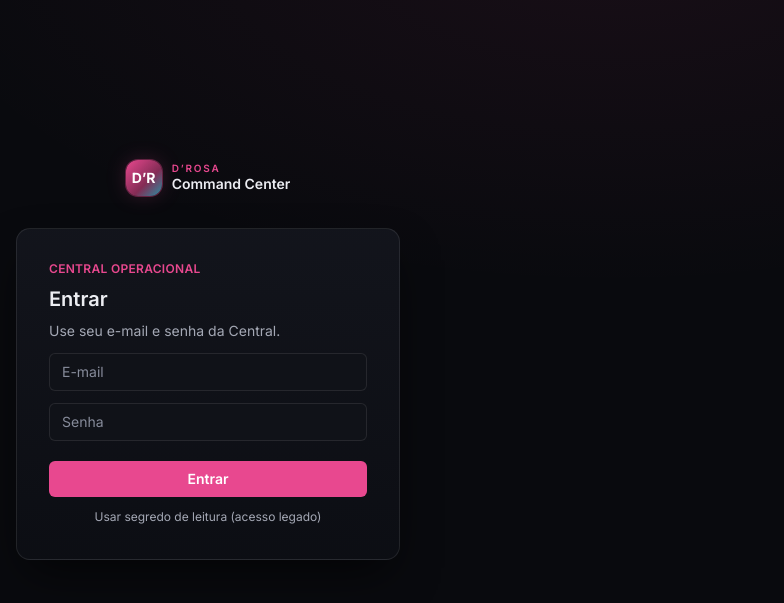
it: ConnectGate — sessão única + legado › login com 429 mostra mensagem de bloqueio
This screenshot has width=784, height=603.
In the field labelled "E-mail": (208, 372) x1=49 y1=353 x2=367 y2=391, type "a@b.c"
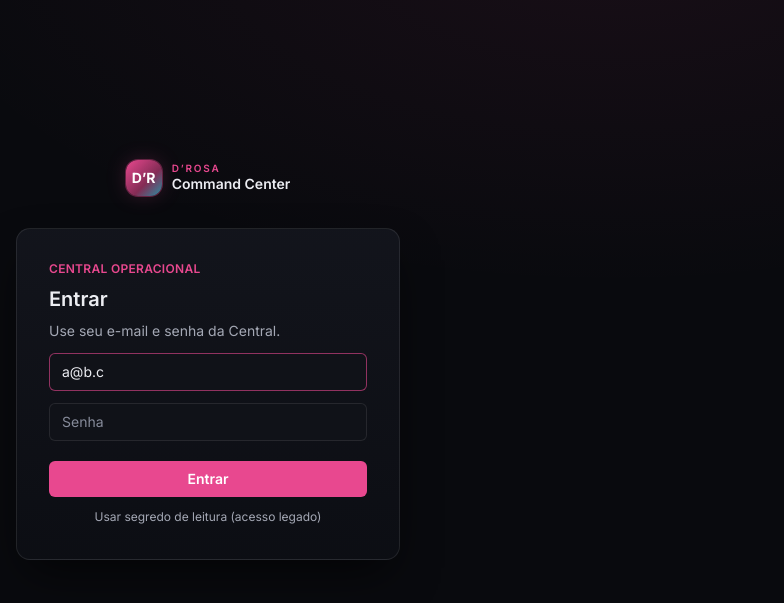
In the password field labelled "Senha": (208, 422) x1=49 y1=403 x2=367 y2=441, type "x"
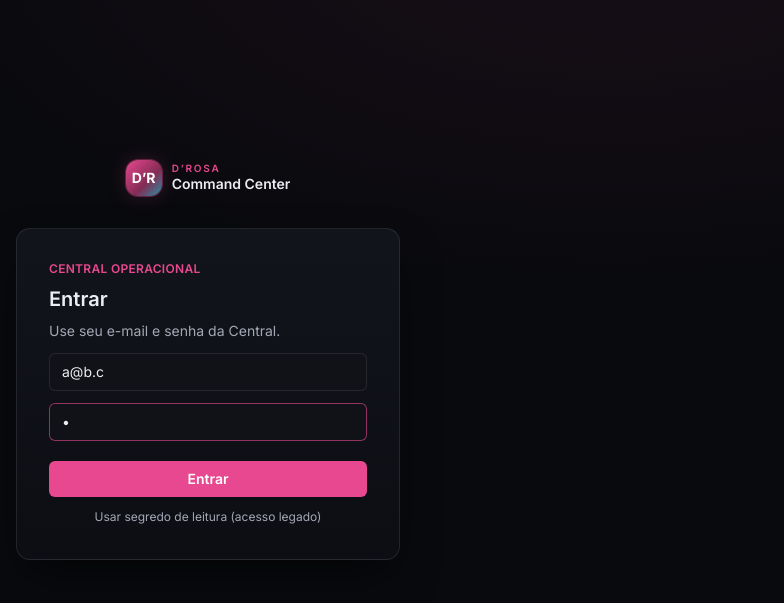
Click the button "Entrar": (208, 479) x1=49 y1=461 x2=367 y2=497
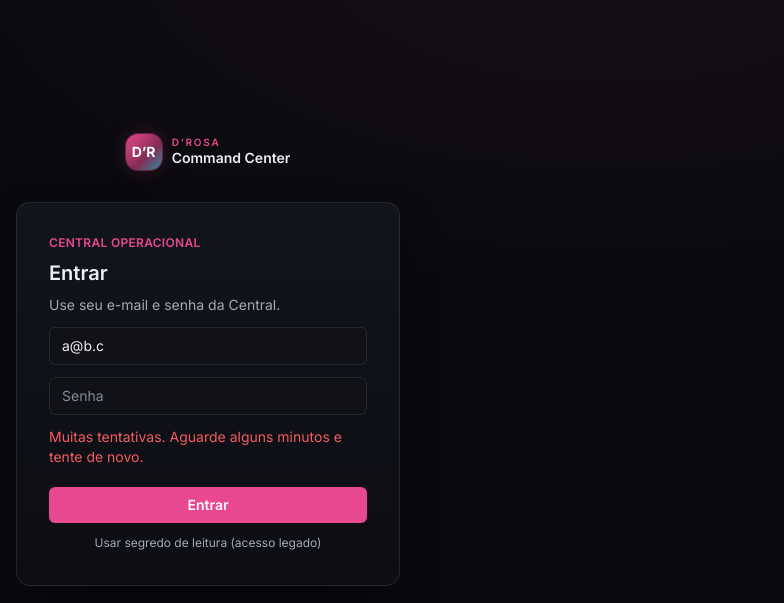
Now the message shows "Muitas tentativas", box x1=49 y1=428 x2=342 y2=465
